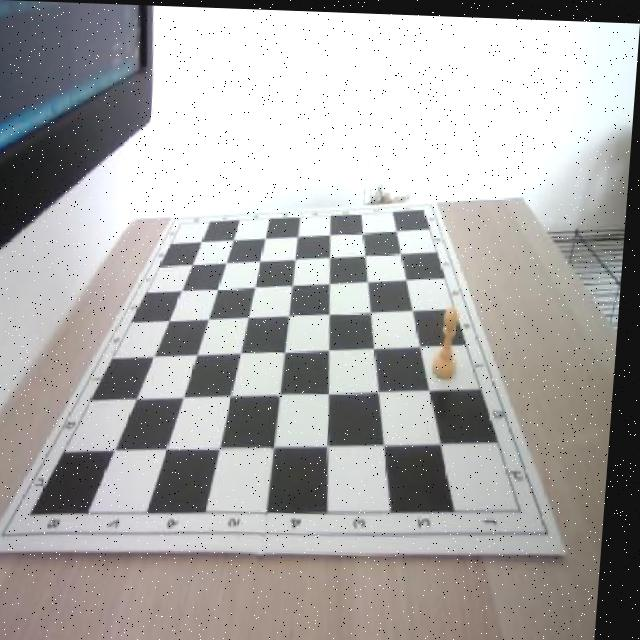white-knight: (436, 301, 465, 379)
